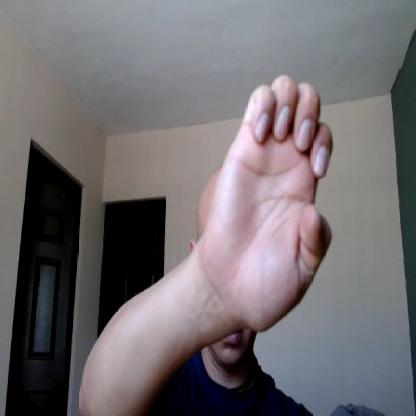E: (211, 76, 334, 332)
